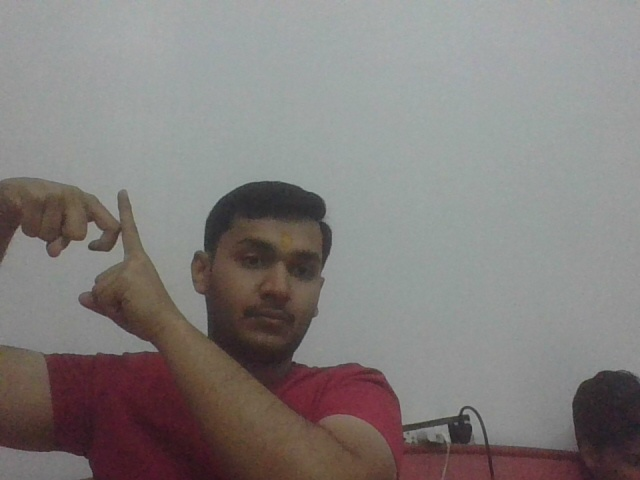K: (64, 183, 158, 275)
